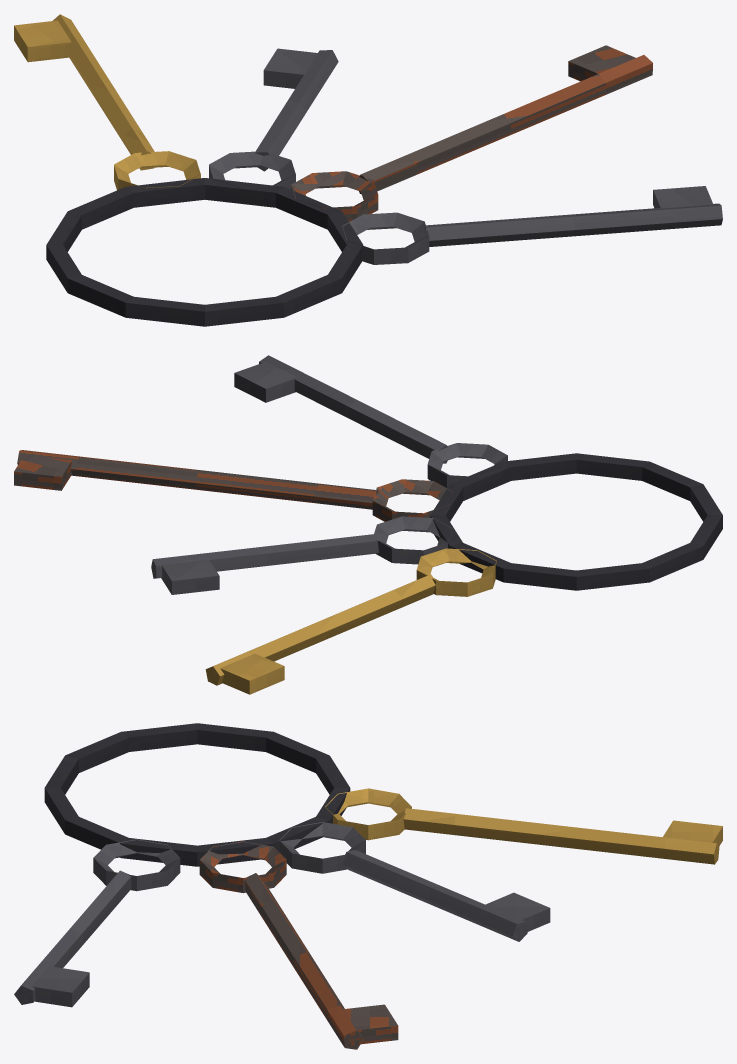
File: key-ring.glb
3 views of the same model, one above another, from view 1: azimuth 30°, elevation 25°; view 2: azimuth 150°, elevation 25°; view 3: azimuth 270°, elevation 25° (orthographic). The views are drawn at different scales.
Visible parts, largest first — view 1: key-ring.001; view 2: key-ring.001; view 3: key-ring.001.
Boxes of the visible parts, left/top/right/bottom form: key-ring.001: left=14, top=14, right=722, bottom=326; key-ring.001: left=14, top=355, right=722, bottom=694; key-ring.001: left=14, top=723, right=722, bottom=1049.
Bounding box in the file's own units: 0.2289 × 0.00695 × 0.2202.
Materials: 1 (1 with a texture image).
